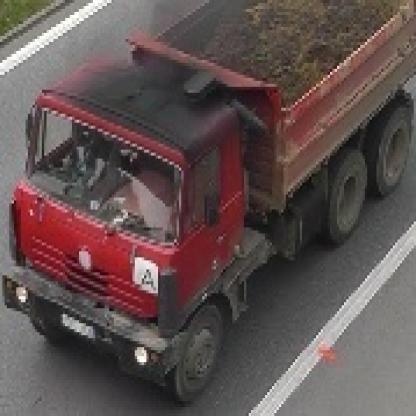truck: (1, 1, 415, 399)
